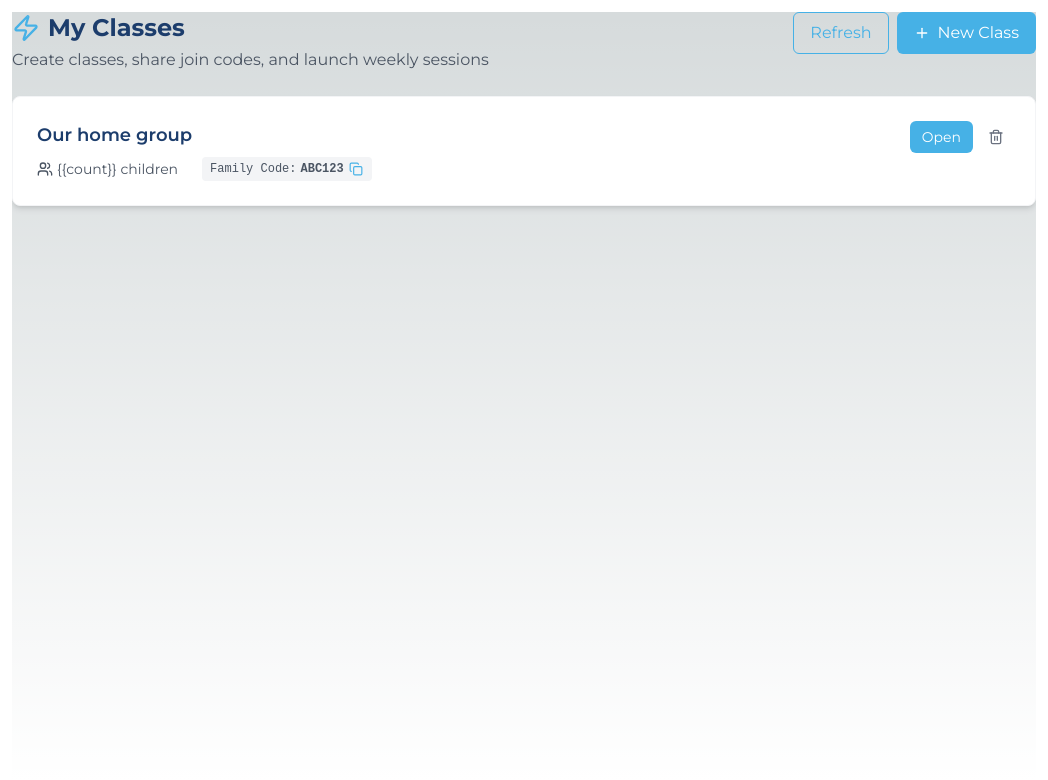
Test: truthful class-list loading (#899) › retains confirmed home rows during refresh and after failure
The width and height of the screenshot is (1048, 780).
Expected: the link "Our home group" is shown, [37,124,192,146]
Click the button "Refresh" at (841, 33), box [793,12,889,54]
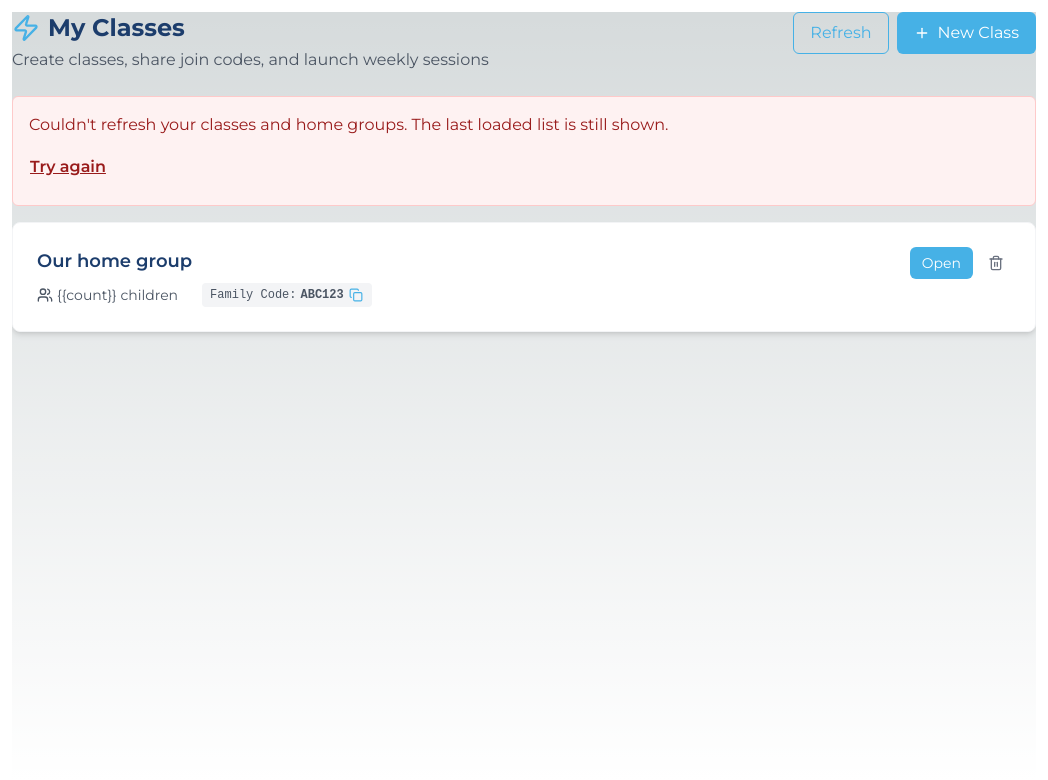
Expected: the link "Our home group" is shown, [37,250,192,272]
Result: the message shows "Couldn't refresh" at [29,115,668,134]
Click the button "Try again" at (68, 167), box [29,145,107,189]
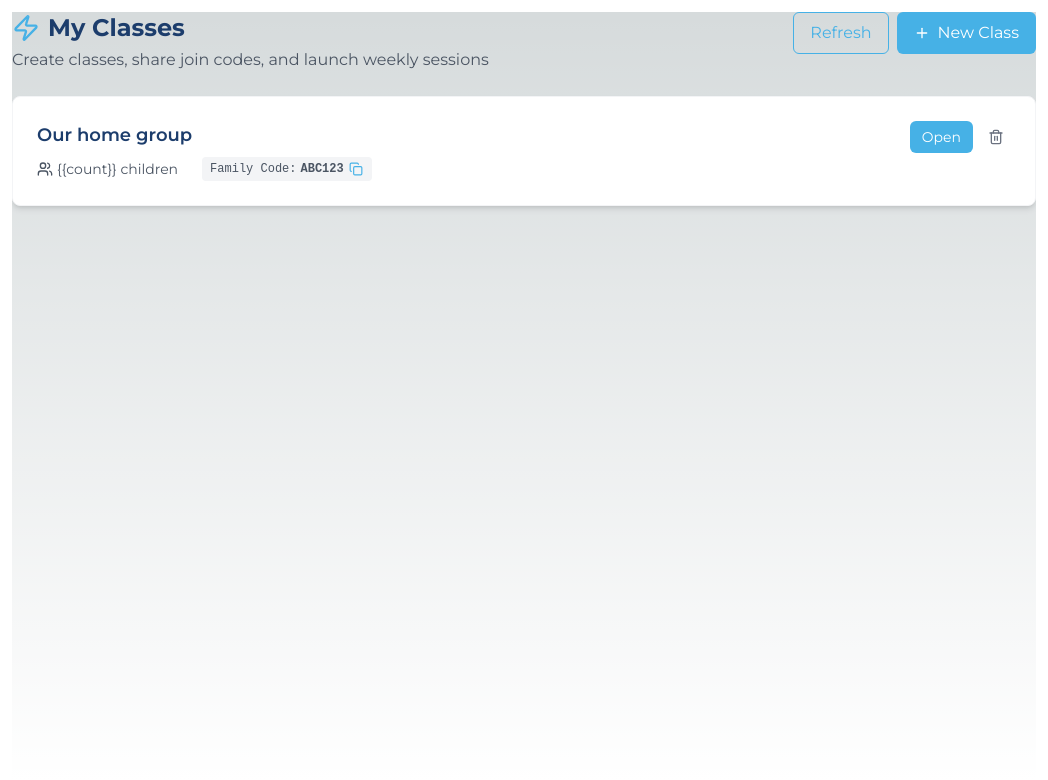
Expected: the link "Our home group" is shown, [37,124,192,146]
Result: the message is gone
